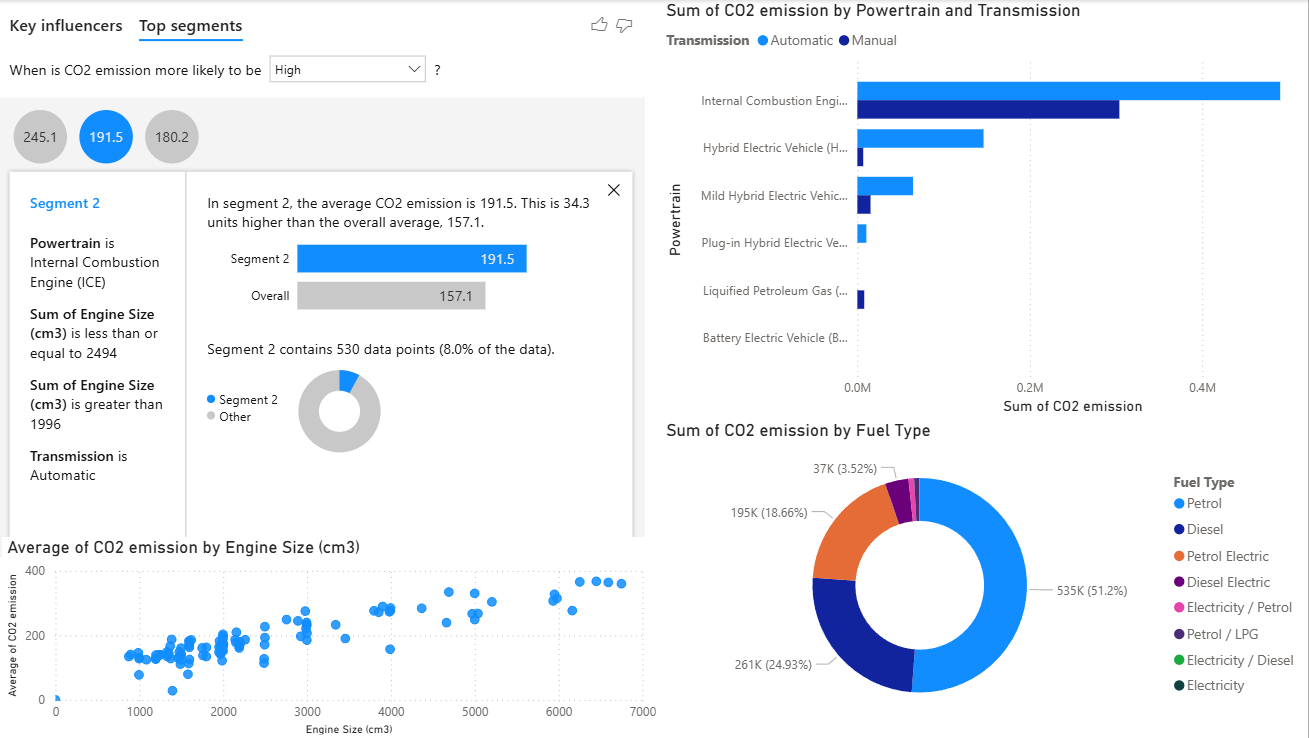

The page's visual inventory and layout, read from the dashboard file:
{"tool":"powerbi","page":{"name":"Page 1","canvas":[1280,720],"ordinal":0},"visuals":[{"type":"keyDriversVisual","fields":{"Target":["Vehicles.CO2 emission"],"ExplainBy":["Sum(Vehicles.Engine Size (cm3))","Vehicles.Fuel Type","Vehicles.Powertrain","Vehicles.Transmission"]},"box":[9.7,0,568,467.8],"z":0},{"type":"scatterChart","fields":{"X":["Vehicles.Engine Size (cm3)"],"Y":["Avg(Vehicles.CO2 emission)"]},"box":[9.7,467.8,568,251.9],"z":1000},{"type":"clusteredBarChart","fields":{"Category":["Vehicles.Powertrain"],"Series":["Vehicles.Transmission"],"Y":["Sum(Vehicles.CO2 emission)"]},"box":[577.8,0,702.2,408.5],"z":2000},{"type":"donutChart","fields":{"Category":["Vehicles.Fuel Type"],"Y":["Sum(Vehicles.CO2 emission)"]},"box":[577.8,425,702.2,286],"z":3000}]}

Visuals, with their boxes in screenshot pixels (x1, y1, x2, y2), scaled from the page's 1280x720 canvas onto the 1309x738 screenshot:
keyDriversVisual - Vehicles.CO2 emission x Sum(Vehicles.Engine Size (cm3)): region(10, 0, 591, 479)
scatterChart - Vehicles.Engine Size (cm3) x Avg(Vehicles.CO2 emission): region(10, 479, 591, 737)
clusteredBarChart - Vehicles.Powertrain x Vehicles.Transmission: region(591, 0, 1308, 419)
donutChart - Vehicles.Fuel Type x Sum(Vehicles.CO2 emission): region(591, 436, 1308, 729)
